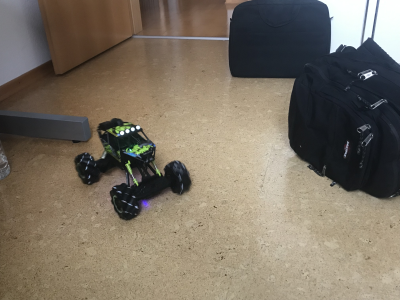remote control car: (69, 116, 193, 221)
